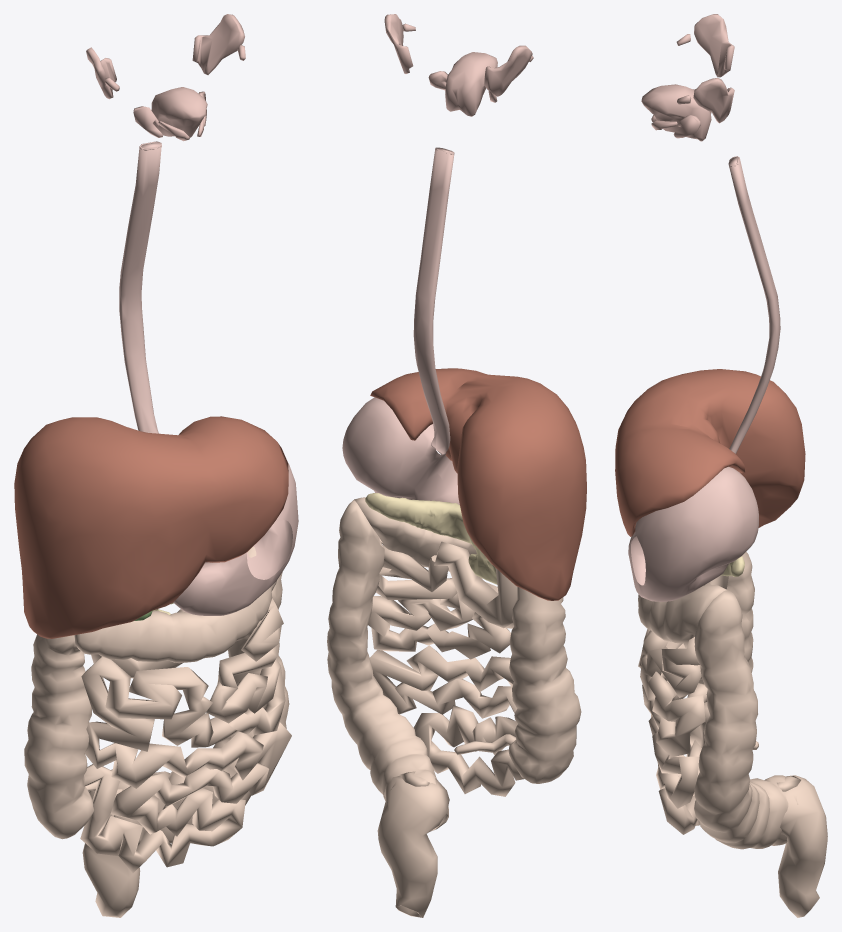
The model's file is astronaut_digestive.glb.
3 renders of one model, left to right at view 1: azimuth 30°, elevation 25°; view 2: azimuth 150°, elevation 25°; view 3: azimuth 270°, elevation 25°, orthographic. The views are drawn at different scales.
Visible parts, largest first — view 1: ORG_Liver, ORG_SmallIntestine, ORG_LargeIntestine, ORG_Esophagus, ORG_Stomach, ORG_Rectum, GLAND_Salivary_L, ORG_Tongue, GLAND_Salivary_R; view 2: ORG_LargeIntestine, ORG_Liver, ORG_SmallIntestine, ORG_Stomach, ORG_Rectum, ORG_Esophagus, ORG_Pancreas, ORG_Tongue, GLAND_Salivary_R, GLAND_Salivary_L; view 3: ORG_Liver, ORG_LargeIntestine, ORG_Stomach, ORG_SmallIntestine, ORG_Rectum, ORG_Esophagus, ORG_Tongue, GLAND_Salivary_L, GLAND_Salivary_R.
Part boxes in pixels (left/top/right/bottom): ORG_Liver: left=14, top=416, right=288, bottom=638; ORG_SmallIntestine: left=80, top=598, right=291, bottom=872; ORG_LargeIntestine: left=24, top=546, right=289, bottom=847; ORG_Esophagus: left=119, top=141, right=161, bottom=433; ORG_Stomach: left=173, top=463, right=298, bottom=615; ORG_Rectum: left=82, top=789, right=140, bottom=917; GLAND_Salivary_L: left=192, top=14, right=245, bottom=136; ORG_Tongue: left=151, top=87, right=207, bottom=137; GLAND_Salivary_R: left=86, top=47, right=189, bottom=141; ORG_LargeIntestine: left=327, top=497, right=581, bottom=831; ORG_Liver: left=370, top=368, right=586, bottom=600; ORG_SmallIntestine: left=368, top=541, right=523, bottom=796; ORG_Stomach: left=342, top=397, right=459, bottom=504; ORG_Rectum: left=377, top=775, right=449, bottom=917; ORG_Esophagus: left=413, top=147, right=454, bottom=454; ORG_Pancreas: left=365, top=493, right=497, bottom=584; ORG_Tongue: left=445, top=52, right=497, bottom=116; GLAND_Salivary_R: left=483, top=45, right=533, bottom=102; GLAND_Salivary_L: left=384, top=14, right=447, bottom=90; ORG_Liver: left=615, top=369, right=805, bottom=536; ORG_LargeIntestine: left=638, top=551, right=800, bottom=849; ORG_Stomach: left=628, top=466, right=758, bottom=601; ORG_SmallIntestine: left=638, top=575, right=728, bottom=834; ORG_Rectum: left=778, top=775, right=827, bottom=917; ORG_Esophagus: left=728, top=156, right=780, bottom=453; ORG_Tongue: left=641, top=84, right=711, bottom=141; GLAND_Salivary_L: left=651, top=78, right=734, bottom=138; GLAND_Salivary_R: left=651, top=14, right=734, bottom=122.
Bounding box in the file's own units: 0.2345 × 0.7911 × 0.1753.
